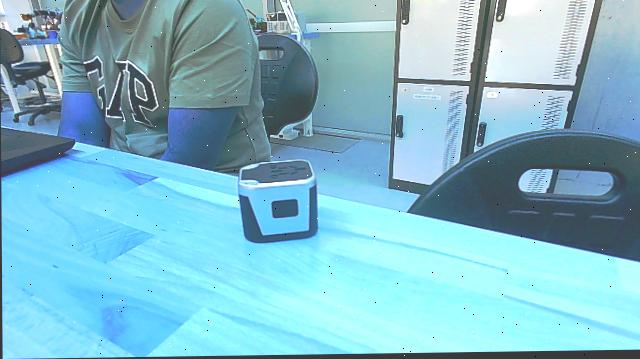adapter: (234, 156, 322, 246)
